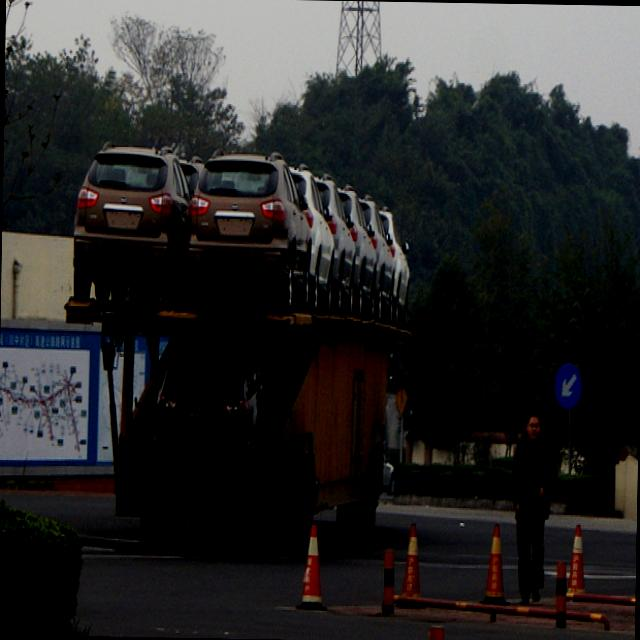Vehicle: (58, 296, 409, 550), (183, 150, 314, 313), (72, 141, 192, 312), (152, 331, 266, 503), (310, 174, 360, 316), (289, 168, 335, 312), (355, 192, 398, 323), (338, 184, 380, 317), (378, 206, 410, 328), (177, 156, 206, 198), (383, 450, 395, 498)
